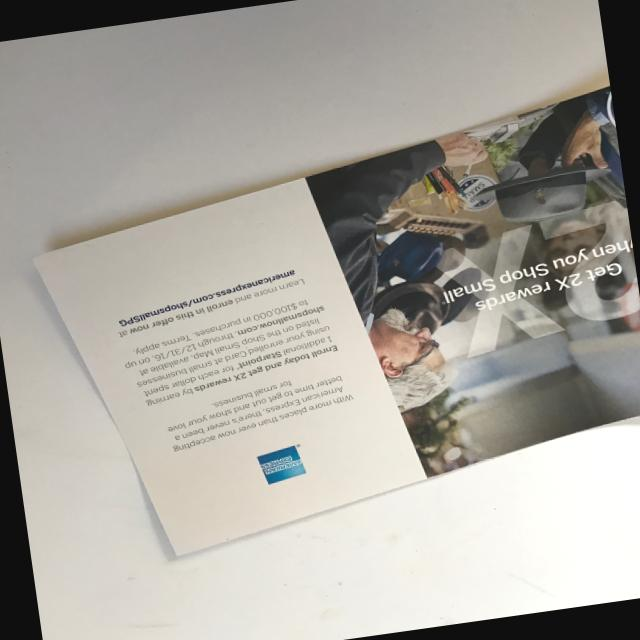Paper: (17, 82, 640, 575)
